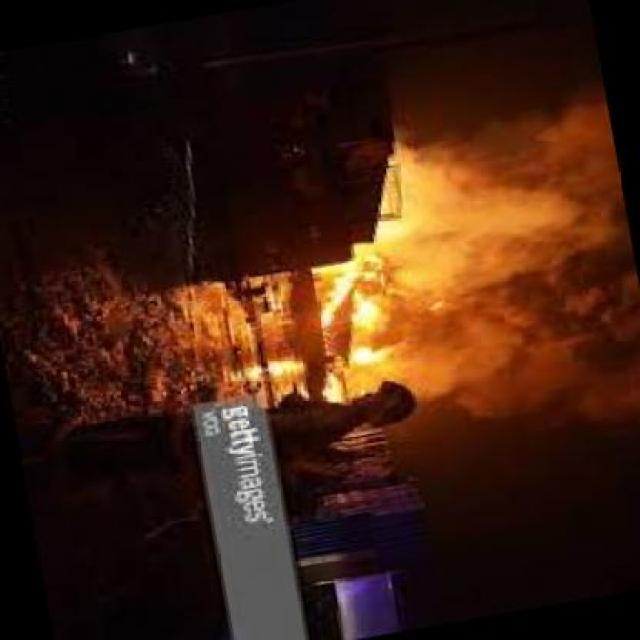Fire: (301, 248, 415, 392)
Smoke: (432, 96, 628, 436)
